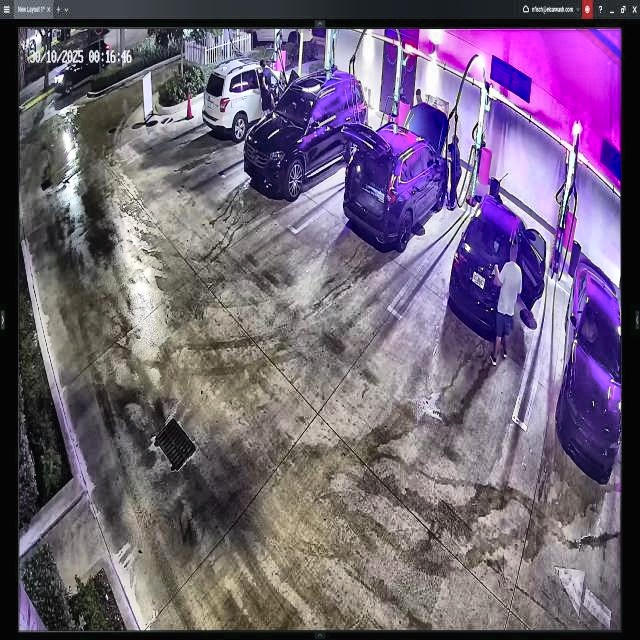Car: (345, 102, 447, 254), (245, 70, 367, 188), (452, 196, 543, 337), (207, 62, 300, 142)
